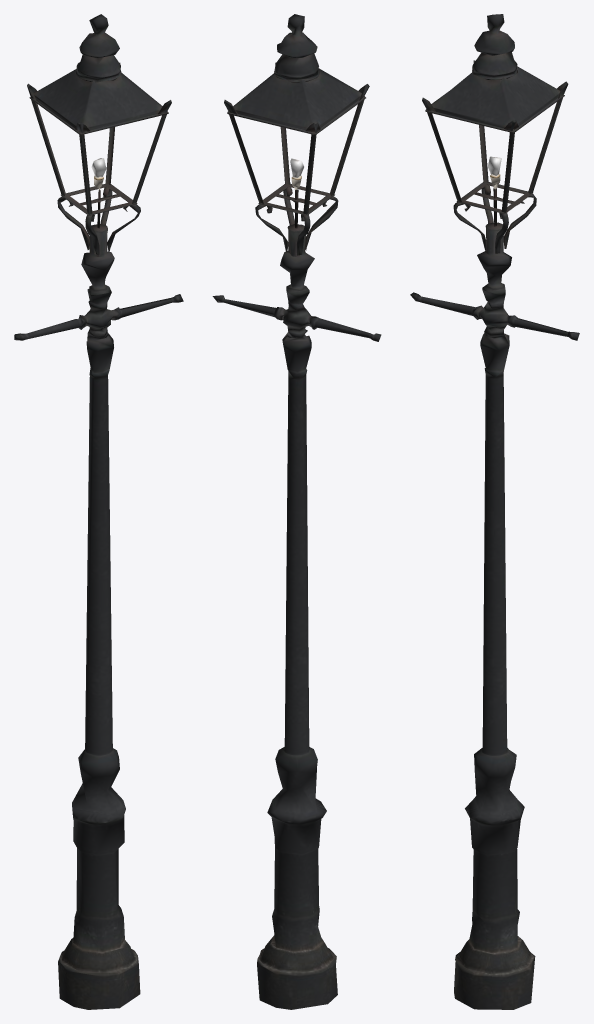
File: street_lamp.glb
The picture shows the model from 3 angles, left to right: view 1: azimuth 30°, elevation 25°; view 2: azimuth 150°, elevation 25°; view 3: azimuth 330°, elevation 25°; orthographic projection.
Bounding box in the file's own units: 0.6892 × 3.86 × 0.3862.
Materials: 1 (1 with a texture image).
